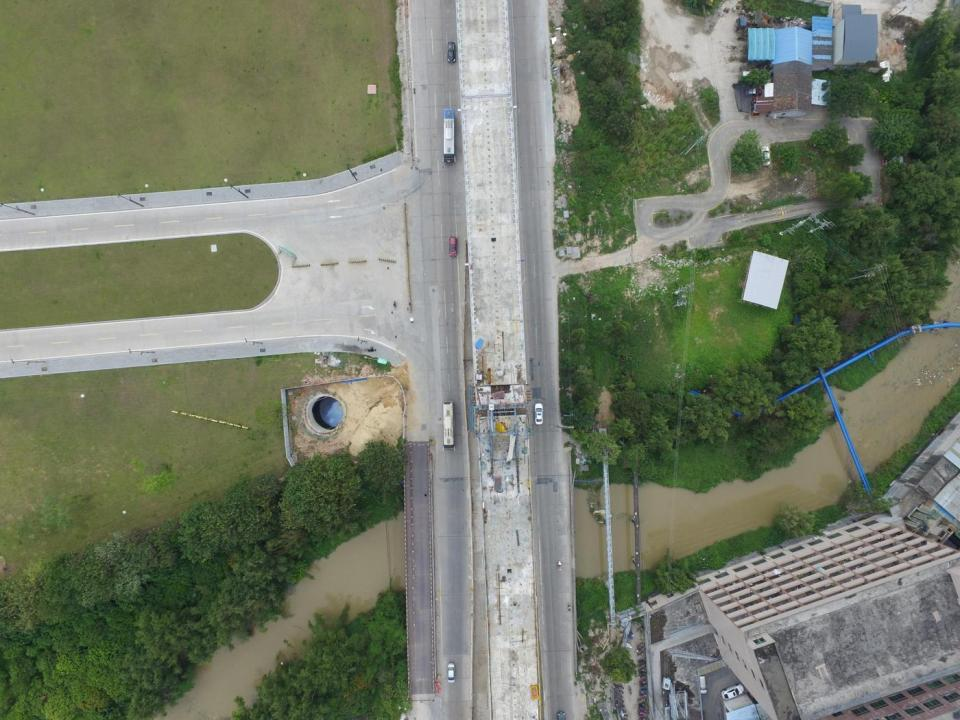bus: (442, 108, 457, 165)
car: (441, 400, 456, 451), (446, 662, 458, 683), (533, 402, 544, 424), (446, 42, 456, 63), (448, 236, 458, 257), (558, 712, 565, 720)
